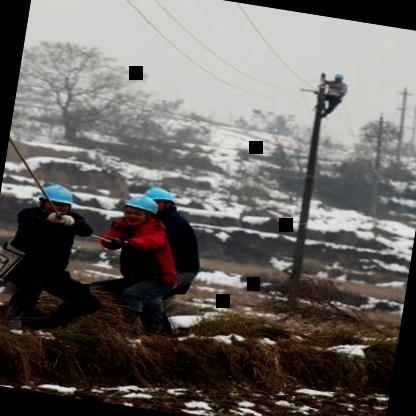helmet: (136, 182, 177, 220), (122, 193, 160, 228), (40, 184, 78, 216)
